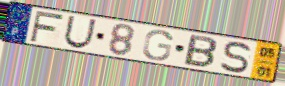8: (108, 23, 137, 57)
B: (181, 33, 219, 69)
F: (28, 10, 67, 43)
G: (141, 29, 175, 62)
S: (218, 41, 253, 75)
U: (62, 14, 99, 49)
